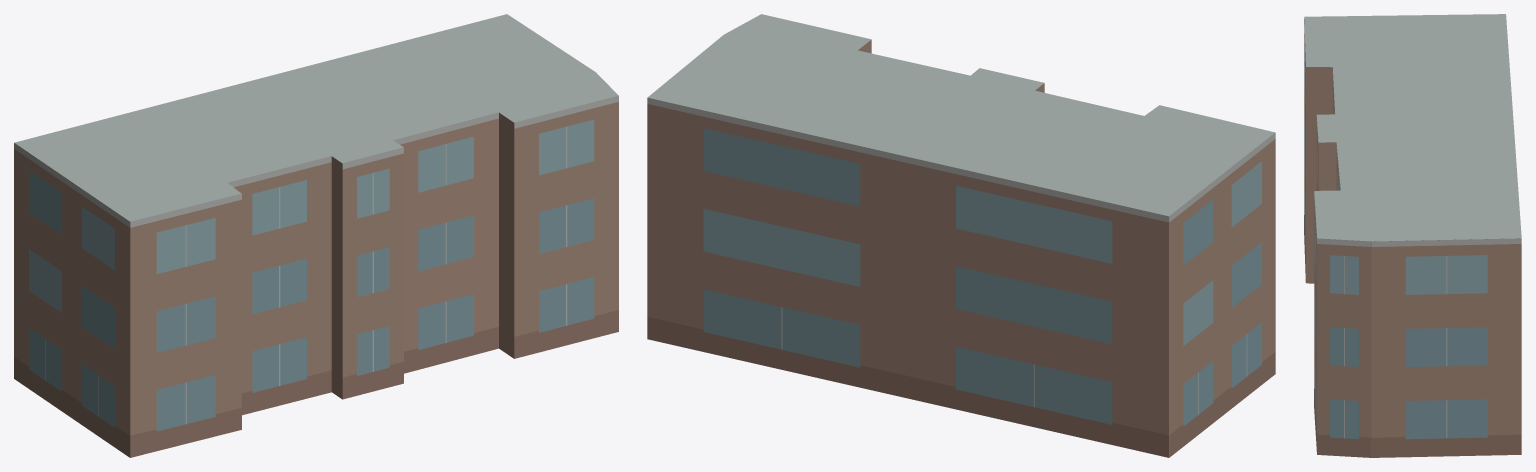
The model's file is survey-upis-32460081.glb.
The picture shows the model from 3 angles, left to right: view 1: azimuth 30°, elevation 25°; view 2: azimuth 150°, elevation 25°; view 3: azimuth 270°, elevation 25°; orthographic projection. The views are drawn at different scales.
Visible parts, largest first — view 1: survey-upis-32460081.tmp; view 2: survey-upis-32460081.tmp; view 3: survey-upis-32460081.tmp.
Part boxes in pixels (x1,y1,x2,y2): survey-upis-32460081.tmp: [14, 14, 618, 457]; survey-upis-32460081.tmp: [647, 14, 1275, 457]; survey-upis-32460081.tmp: [1304, 14, 1521, 457].
Size of the model in its own units: 21.43 by 9.5 by 8.67.
